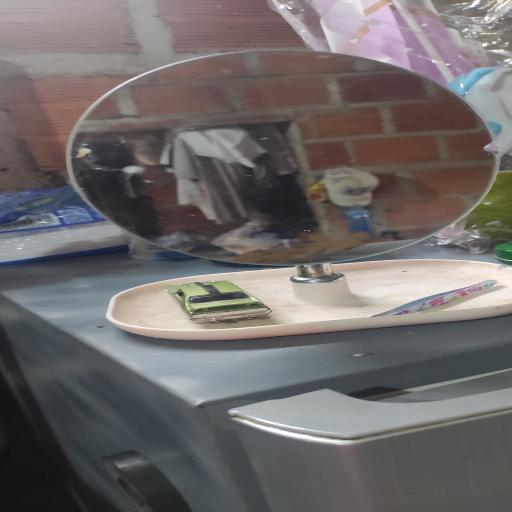Carrito: (166, 280, 270, 322)
